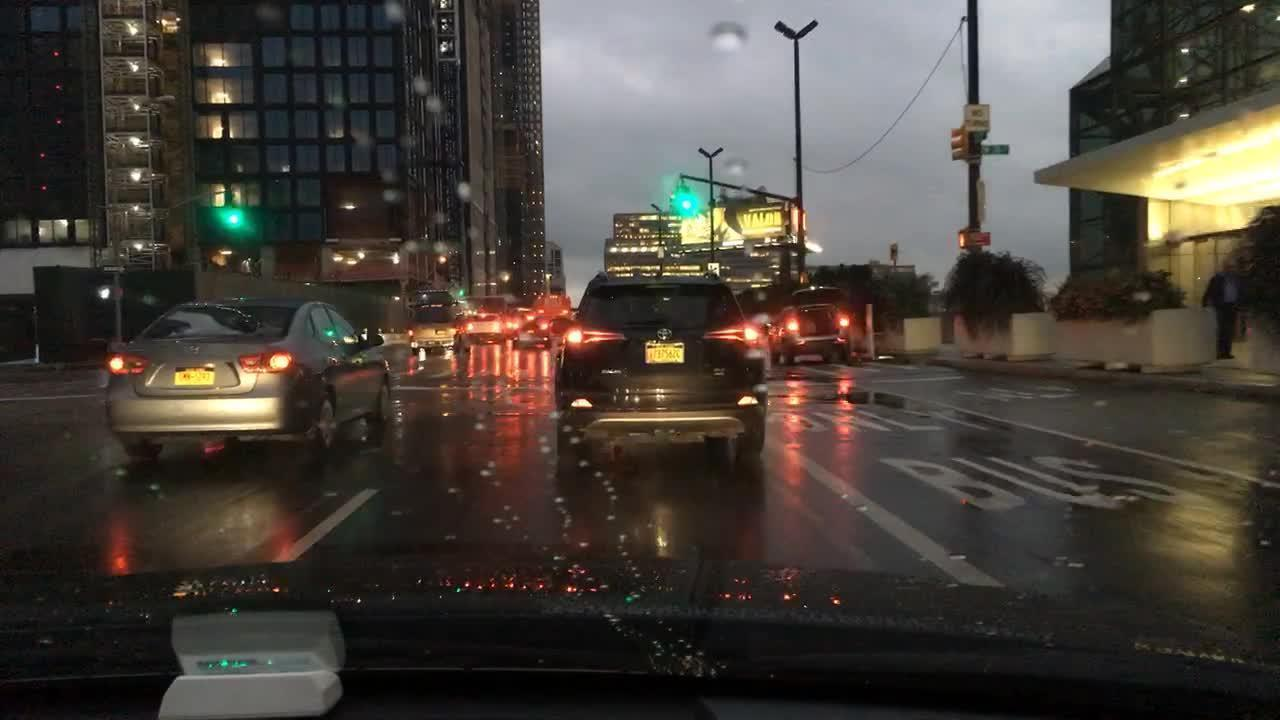Hyundai: (182, 341, 206, 356)
Toyota: (652, 327, 677, 347)
